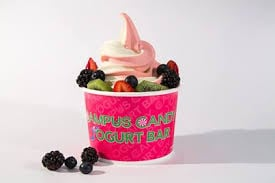pizza: (80, 88, 180, 163)
